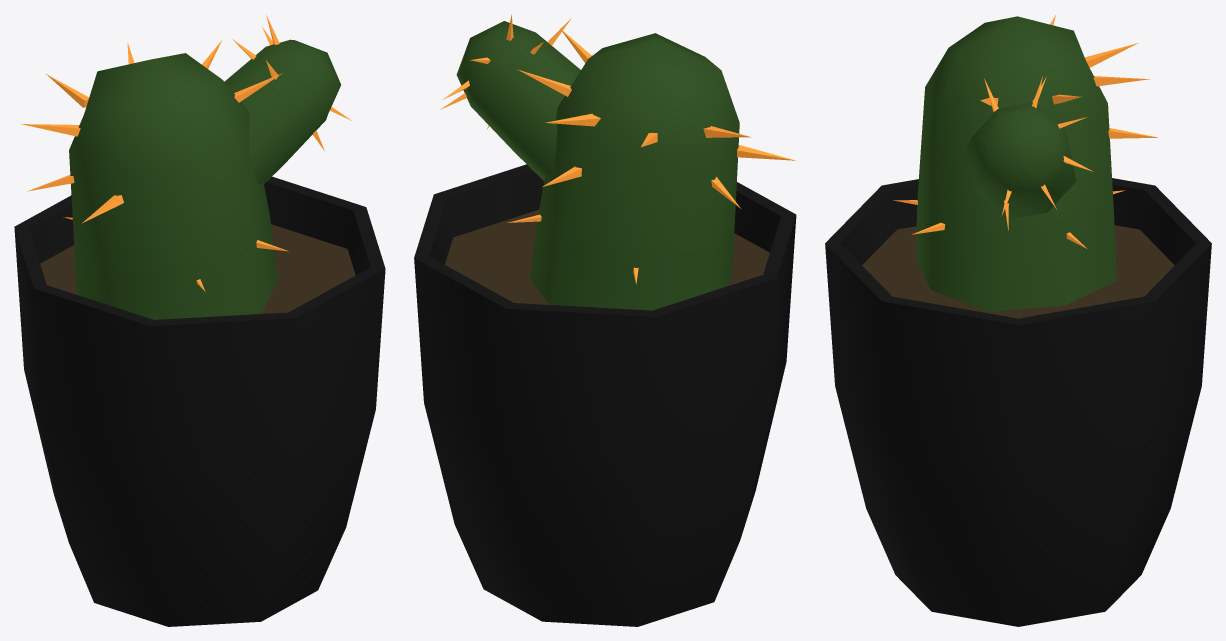
File: Houseplant_2.glb
The picture shows the model from 3 angles, left to right: view 1: azimuth 30°, elevation 25°; view 2: azimuth 150°, elevation 25°; view 3: azimuth 270°, elevation 25°; orthographic projection. The views are drawn at different scales.
Visible parts, largest first — view 1: Houseplant_2; view 2: Houseplant_2; view 3: Houseplant_2.
Part boxes in pixels (x1,y1,x2,y2): Houseplant_2: [14, 15, 385, 626]; Houseplant_2: [414, 14, 796, 626]; Houseplant_2: [825, 14, 1211, 626].
Bounding box in the file's own units: 25.06 × 38.49 × 25.06.
